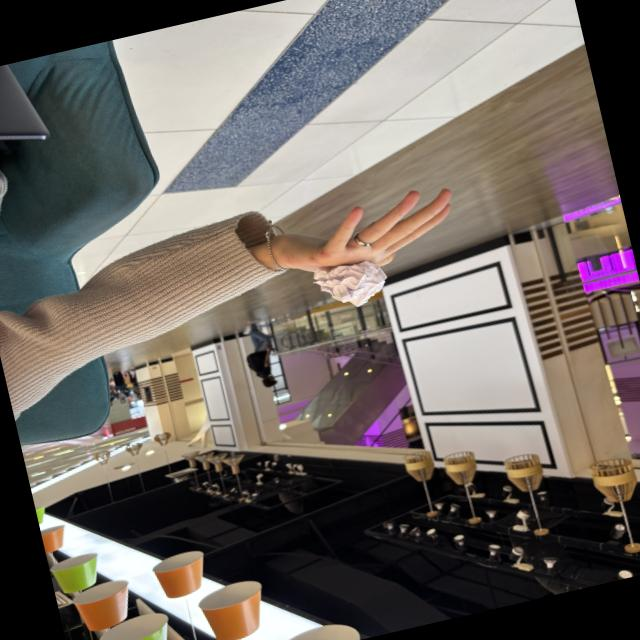crumpled_paper: (310, 250, 394, 317)
